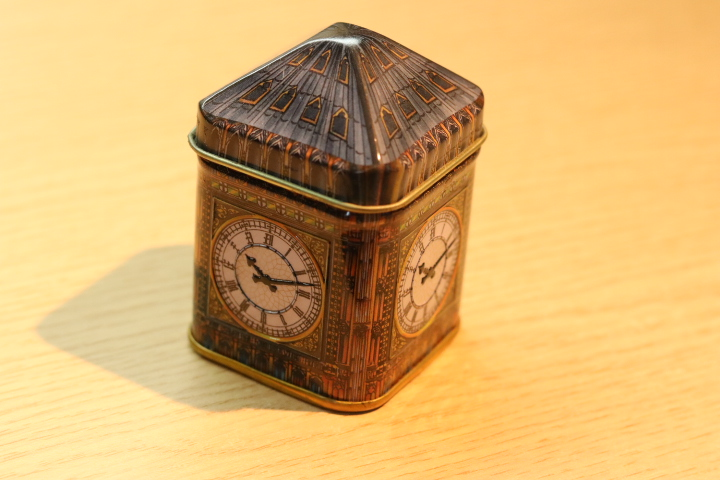Big Ben: (174, 8, 503, 428)
